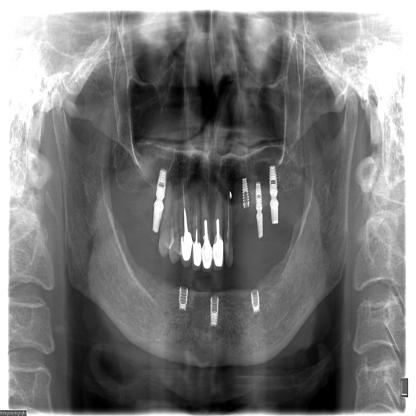Bicon: (247, 283, 265, 321), (208, 291, 221, 331), (178, 281, 191, 316), (240, 174, 251, 213), (156, 166, 168, 200), (268, 158, 279, 194), (254, 176, 264, 210)
